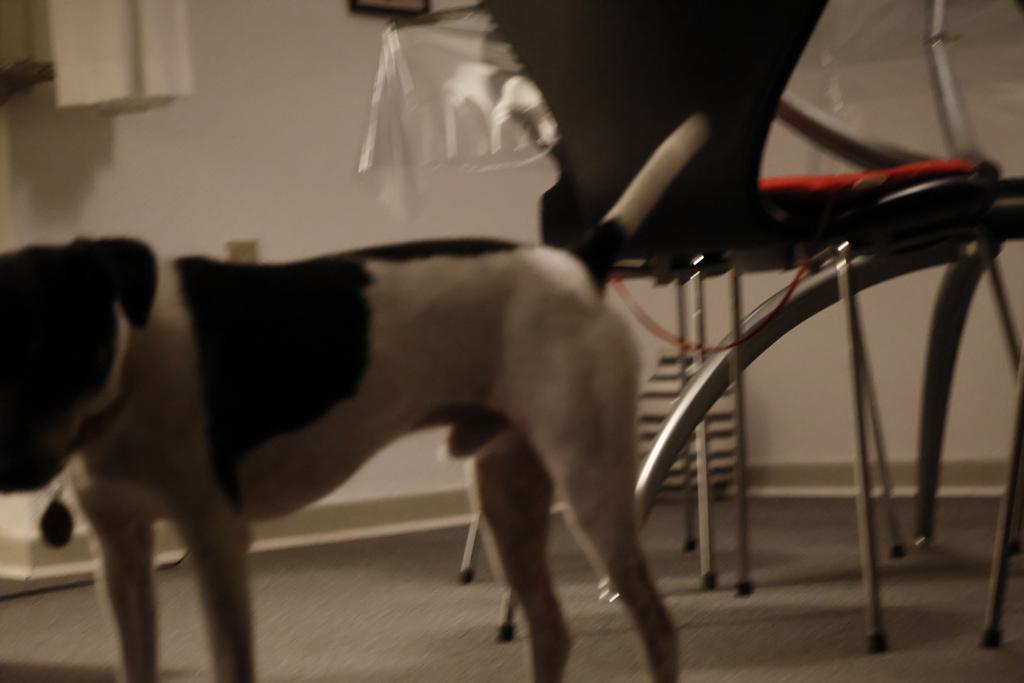Dog: (0, 104, 731, 683)
